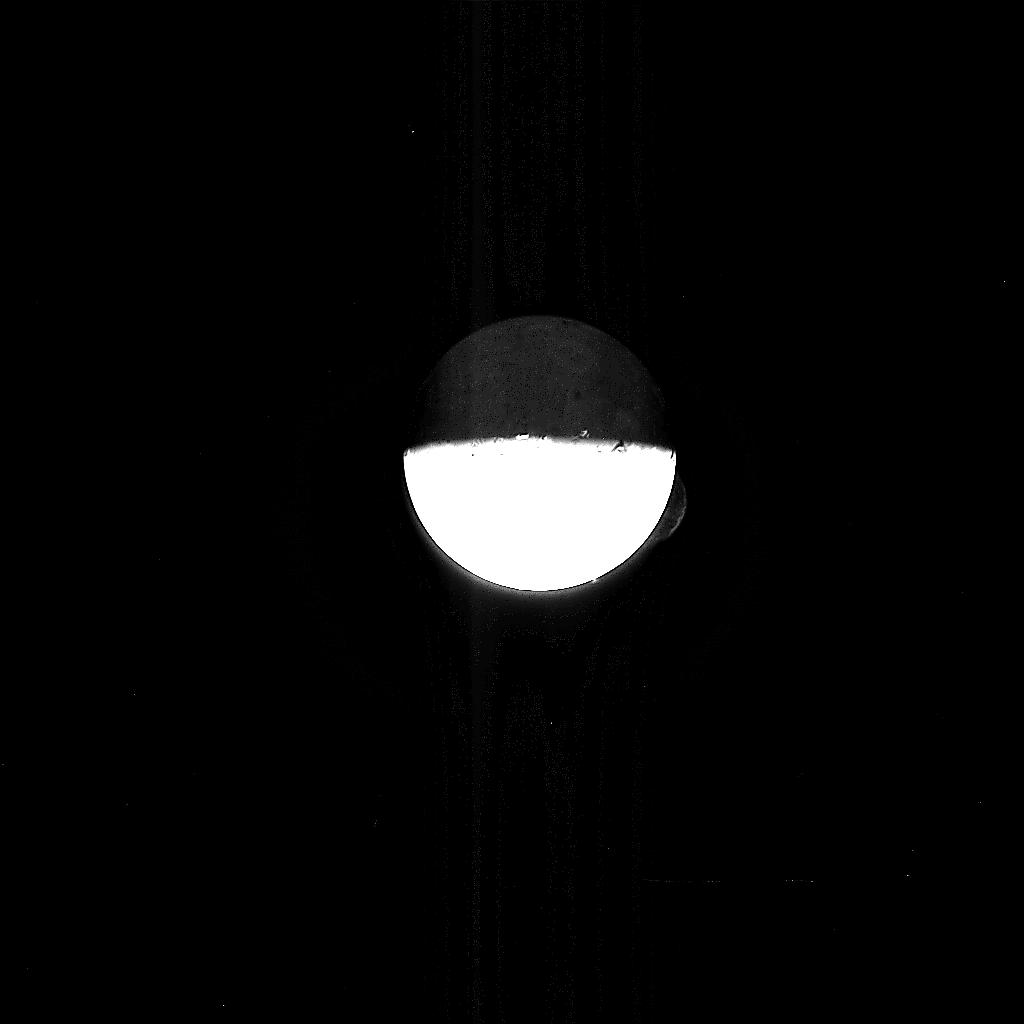plumes: (650, 479, 688, 542), (592, 577, 598, 585)
